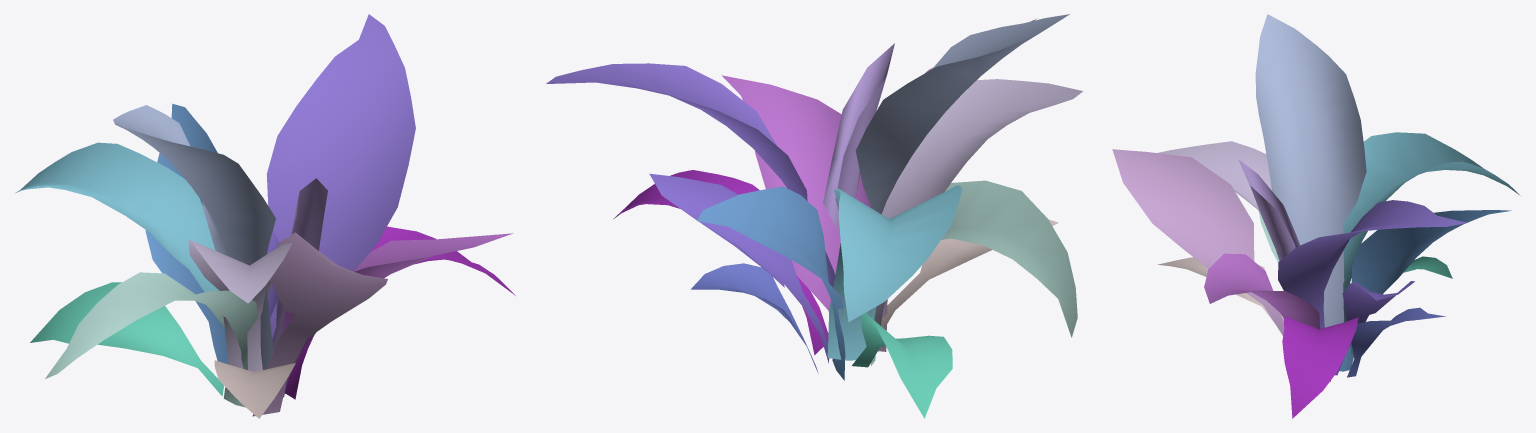
The picture shows the model from 3 angles, left to right: view 1: azimuth 30°, elevation 25°; view 2: azimuth 150°, elevation 25°; view 3: azimuth 270°, elevation 25°; orthographic projection. The views are drawn at different scales.
Visible parts, largest first — view 1: SM_BS_Aglaonema_60cm_HD; view 2: SM_BS_Aglaonema_60cm_HD; view 3: SM_BS_Aglaonema_60cm_HD.
Boxes of the visible parts, bbox=[...] form: SM_BS_Aglaonema_60cm_HD: bbox=[15, 14, 515, 418]; SM_BS_Aglaonema_60cm_HD: bbox=[546, 14, 1082, 418]; SM_BS_Aglaonema_60cm_HD: bbox=[1112, 14, 1521, 418].
Bounding box in the file's own units: 33.2 × 35.17 × 25.94.
